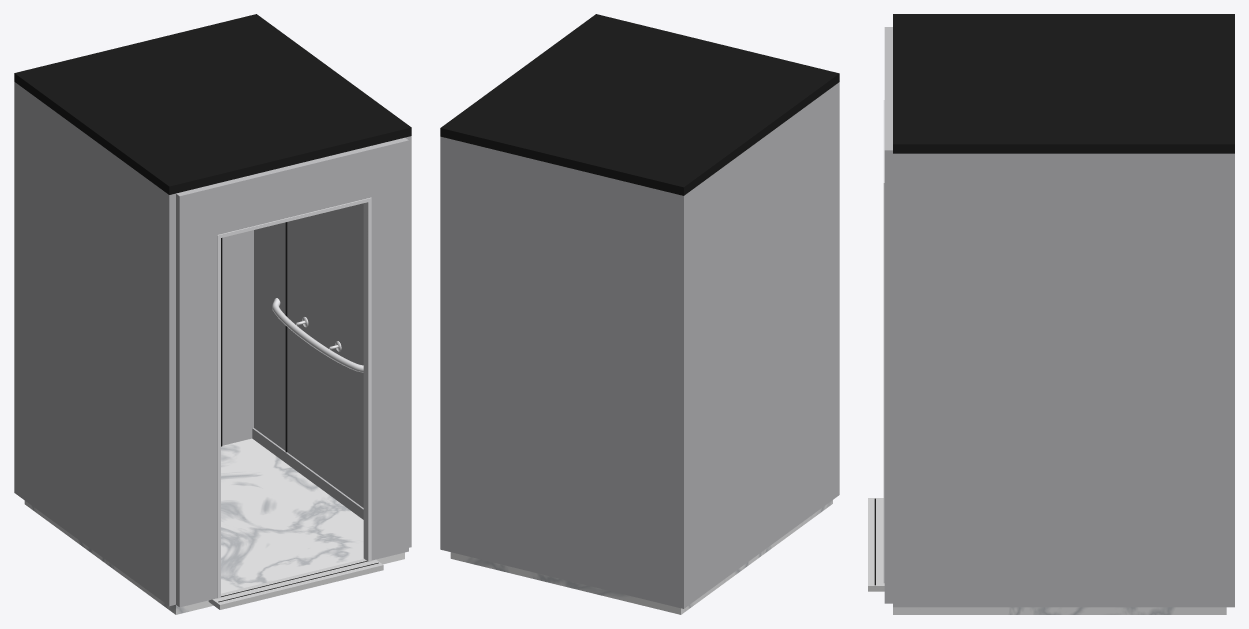
File: elite-cabin.glb
3 renders of one model, left to right at view 1: azimuth 30°, elevation 25°; view 2: azimuth 150°, elevation 25°; view 3: azimuth 270°, elevation 25°, orthographic. The views are drawn at different scales.
Parts seen in each view (by area): view 1: Wall_Left, Ceiling_Shell, Wall_Right, Front_Return_L, Floor, Front_Return_R, Wall_Back, Front_Header, Jamb_R, Door_Sill, Jamb_L, Skirting_R (+3 smaller); view 2: Wall_Back, Wall_Left, Ceiling_Shell, Floor; view 3: Wall_Right, Ceiling_Shell, Front_Return_R, Wall_Back, Floor, Door_Sill, Jamb_R, Front_Header.
Boxes of the visible parts, box(x1,y1,x2,y2) form: Wall_Left: box(18, 84, 175, 606); Ceiling_Shell: box(14, 14, 411, 194); Wall_Right: box(254, 136, 411, 547); Front_Return_L: box(176, 183, 220, 607); Floor: box(24, 438, 404, 614); Front_Return_R: box(364, 137, 408, 560); Wall_Back: box(14, 82, 253, 494); Front_Header: box(217, 147, 367, 233); Jamb_R: box(363, 201, 371, 561); Door_Sill: box(208, 559, 383, 609); Jamb_L: box(217, 238, 220, 598); Skirting_R: box(252, 428, 363, 519); Wall_Back: box(440, 136, 687, 608); Wall_Left: box(687, 82, 839, 605); Ceiling_Shell: box(440, 14, 839, 195); Floor: box(450, 500, 832, 614); Wall_Right: box(893, 153, 1226, 607); Ceiling_Shell: box(893, 14, 1234, 153); Front_Return_R: box(884, 128, 892, 603); Wall_Back: box(1226, 153, 1234, 607); Floor: box(893, 607, 1226, 614); Door_Sill: box(868, 498, 884, 591); Jamb_R: box(883, 186, 884, 583); Front_Header: box(884, 49, 892, 128).
Bounding box in the file's own units: 1.48 × 2.51 × 1.76.
12 materials, 1 textured.
